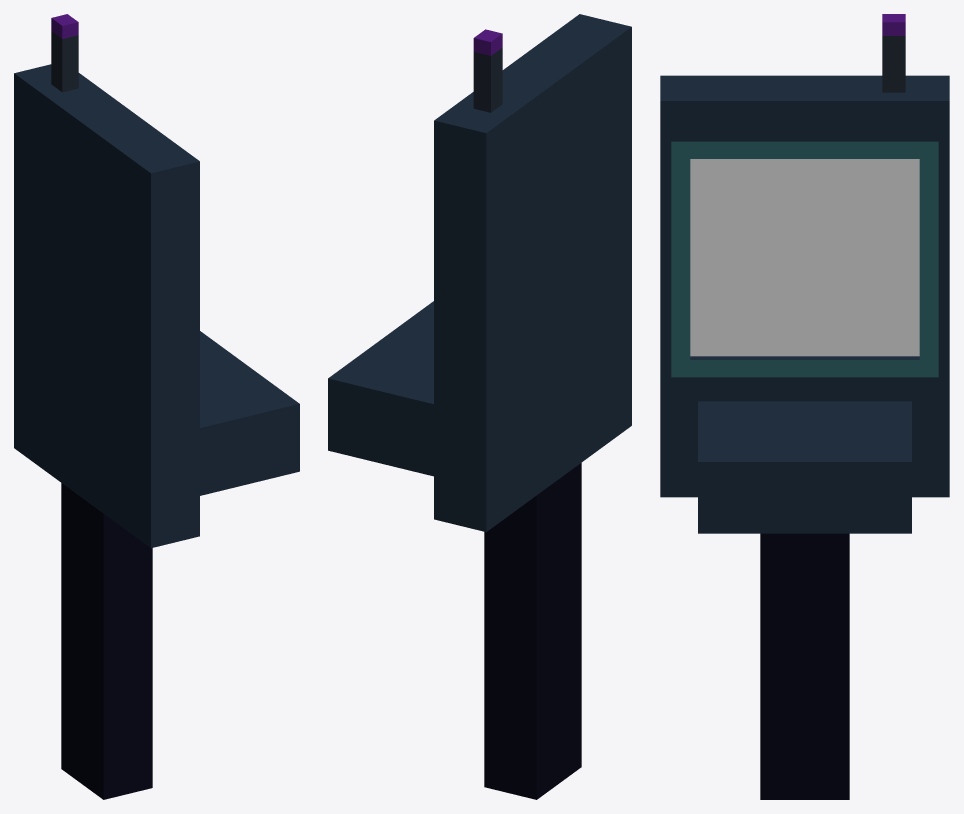
Rendered from MoonPhone_Terminal.fbx.
3 renders of one model, left to right at view 1: azimuth 30°, elevation 25°; view 2: azimuth 150°, elevation 25°; view 3: azimuth 270°, elevation 25°, orthographic. The views are drawn at different scales.
Visible parts, largest first — view 1: Cube.376; view 2: Cube.376; view 3: Cube.376.
Boxes of the visible parts, x1,y1,x2,y2 form: Cube.376: (14, 14, 299, 799); Cube.376: (328, 14, 631, 799); Cube.376: (660, 14, 949, 799).
Bounding box in the file's own units: 26.24 × 109 × 37.29.
